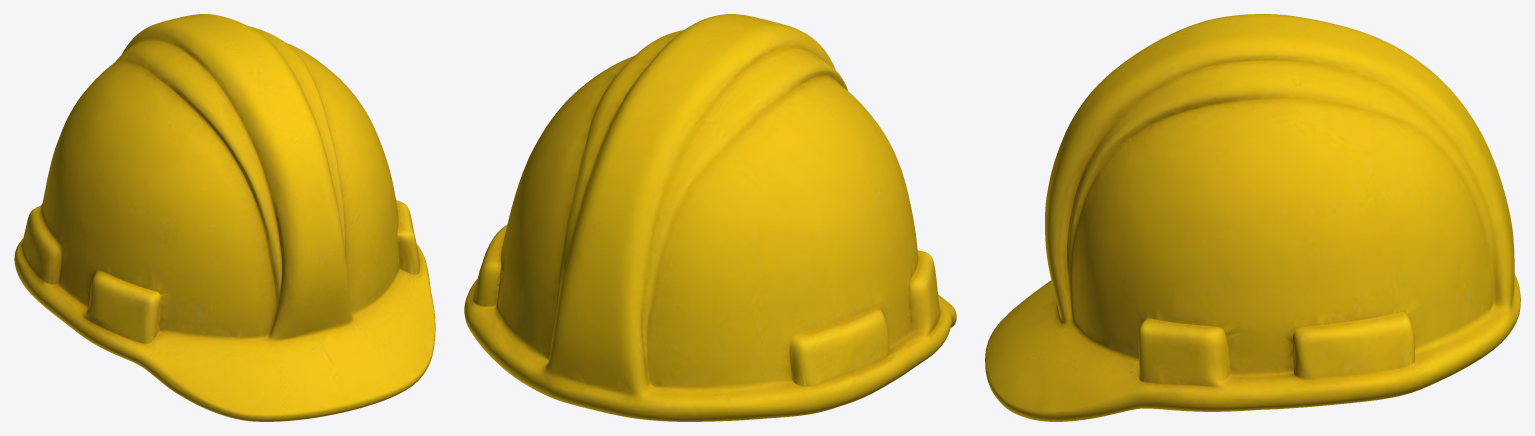
3 renders of one model, left to right at view 1: azimuth 30°, elevation 25°; view 2: azimuth 150°, elevation 25°; view 3: azimuth 270°, elevation 25°, orthographic. The views are drawn at different scales.
Bounding box in the file's own units: 1.67 × 1.35 × 1.9.
1 material, 1 textured.
